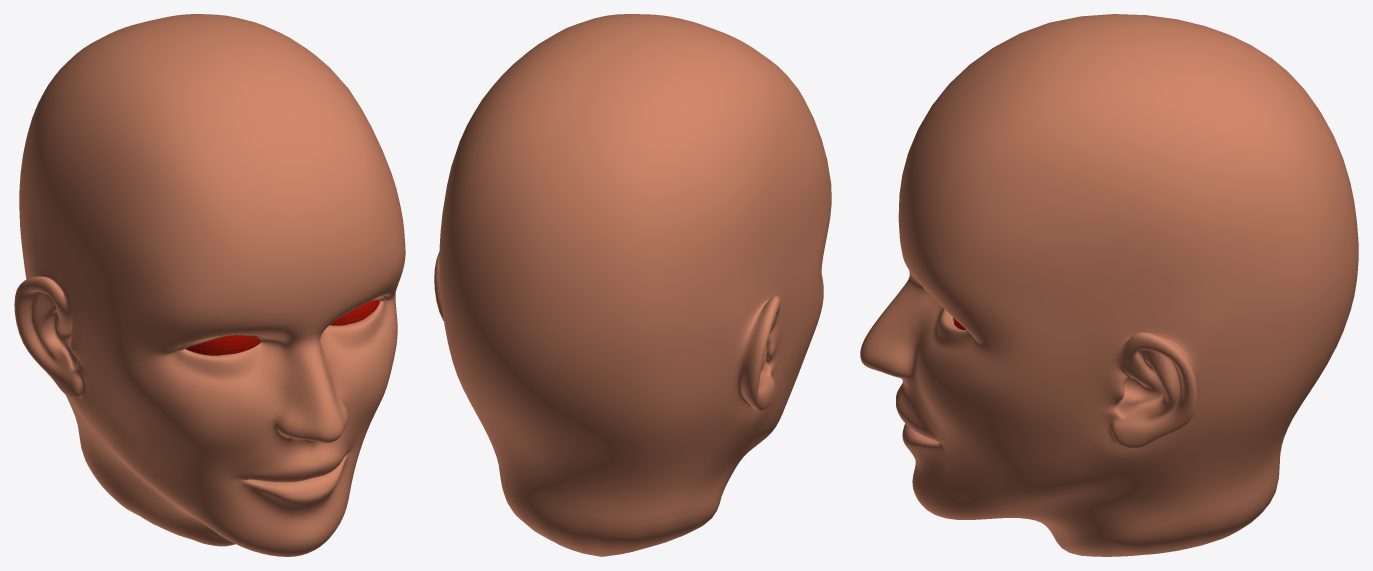
File: head.dae
The picture shows the model from 3 angles, left to right: view 1: azimuth 30°, elevation 25°; view 2: azimuth 150°, elevation 25°; view 3: azimuth 270°, elevation 25°; orthographic projection. The views are drawn at different scales.
Parts seen in each view (by area): view 1: Plane, Sphere; view 2: Plane; view 3: Plane.
Boxes of the visible parts, left/top/right/bottom form: Plane: left=14, top=14, right=405, bottom=556; Sphere: left=185, top=300, right=379, bottom=355; Plane: left=434, top=14, right=831, bottom=556; Plane: left=860, top=14, right=1358, bottom=556.
Bounding box in the file's own units: 6.49 × 8.22 × 9.41.
